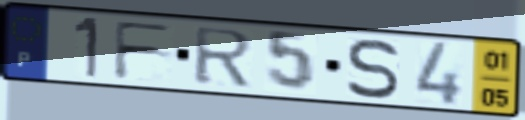1: (71, 15, 100, 81)
4: (412, 40, 467, 108)
5: (264, 28, 320, 97)
F: (111, 19, 177, 82)
R: (192, 25, 257, 89)
S: (344, 37, 403, 102)
